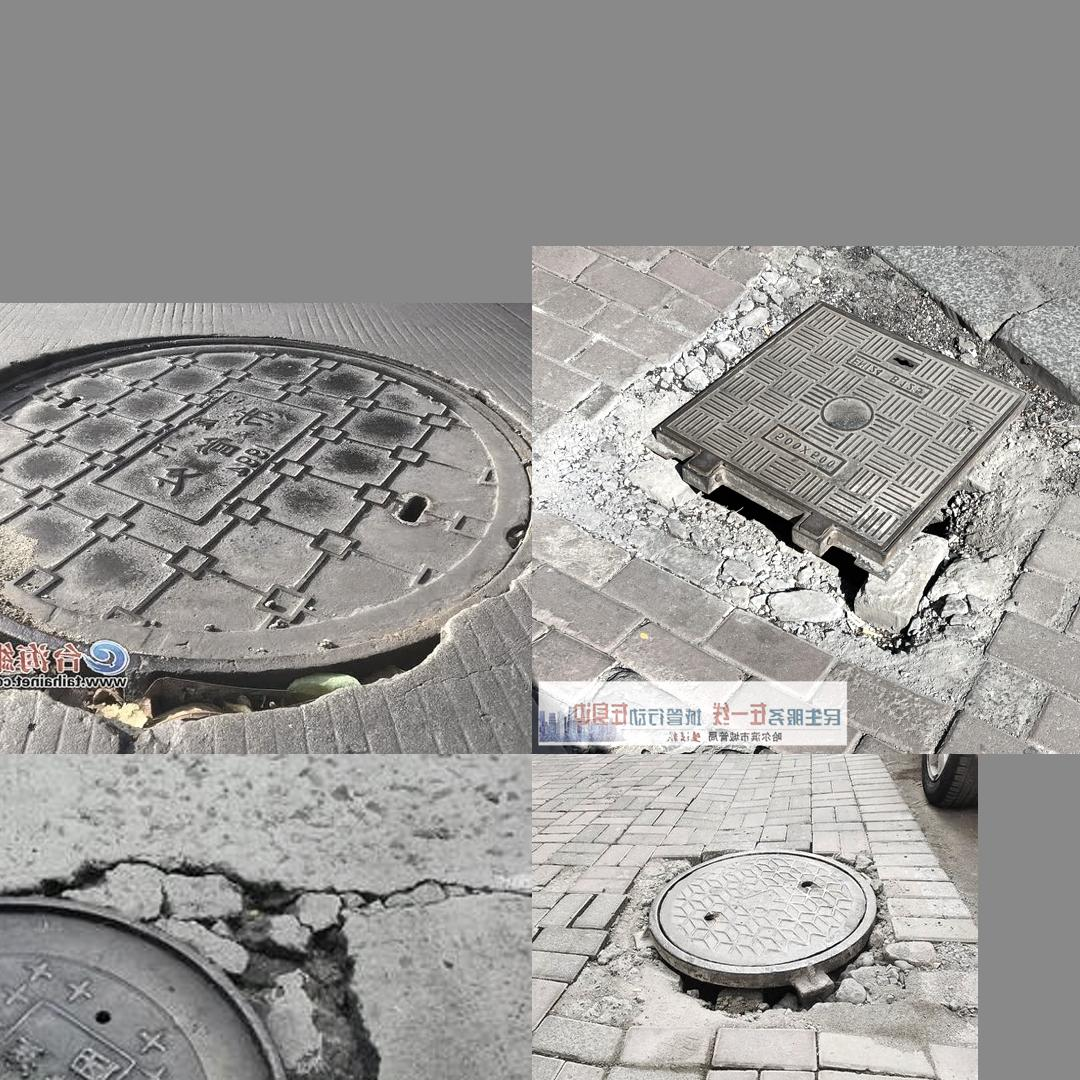circle: (0, 331, 514, 734), (567, 297, 1080, 651), (0, 834, 395, 1080), (563, 838, 918, 1052)
